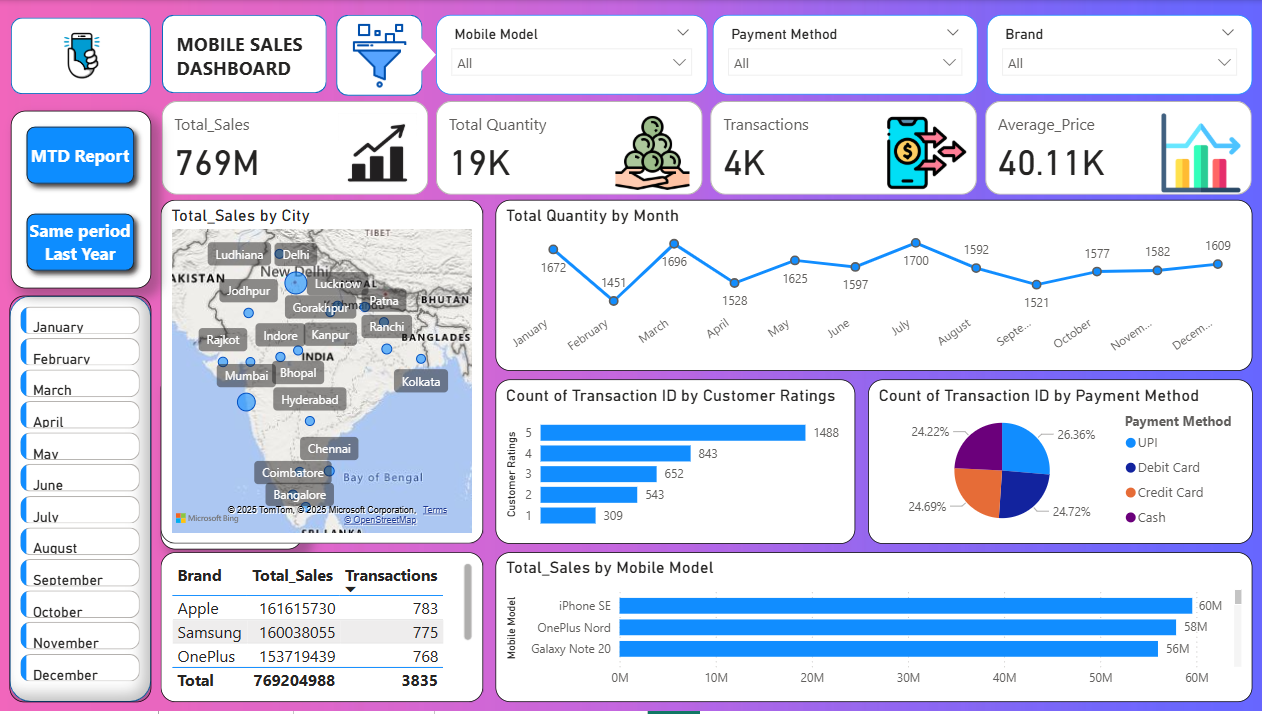

Layout of this report page (visuals, bound fields, positions):
{"tool":"powerbi","page":{"name":"Dashboard","canvas":[1280,720],"ordinal":0},"visuals":[{"type":"shape","box":[11.5,18.1,141.9,77.5],"z":0},{"type":"image","box":[27.3,20.5,110.8,71.1],"z":1000},{"type":"shape","box":[9.6,299.4,143.6,411.6],"z":2000},{"type":"advancedSlicerVisual","fields":{"Values":["Custom_Calendar.Date.Variation.Date Hierarchy.Month"]},"box":[9.6,299.4,143.6,411.6],"z":3000},{"type":"cardVisual","fields":{"Data":["Sales_Data.Total_Sales","Sales_Data.Total Quantity","Sales_Data.Transactions","Sales_Data.Average_Price"]},"box":[158.3,97.3,1116.7,105.6],"z":4000},{"type":"slicer","fields":{"Values":["Sales_Data.Mobile Model"]},"box":[441.6,15,274.8,80.7],"z":5000},{"type":"slicer","fields":{"Values":["Sales_Data.Payment Method"]},"box":[721.9,15,268,80.7],"z":6000},{"type":"slicer","fields":{"Values":["Sales_Data.Brand"]},"box":[999.6,14.8,268.9,80.8],"z":7000},{"type":"shape","box":[340.5,15,87.5,82],"z":8000},{"type":"image","box":[345.9,16.4,76.6,80.7],"z":9000},{"type":"shape","box":[406.1,35.6,35.6,39.7],"z":10000},{"type":"shape","box":[164.1,15,166.8,79.3],"z":11000},{"type":"textbox","box":[173.6,26,147.7,58.8],"z":12000},{"type":"pageNavigator","box":[163.3,379.4,143.5,178.1],"z":13000},{"type":"map","fields":{"Category":["Sales_Data.City"],"Size":["Sales_Data.Total_Sales"]},"box":[163.3,202.9,326.6,348],"z":14000},{"type":"tableEx","fields":{"Values":["Sales_Data.Brand","Sales_Data.Total_Sales","Sales_Data.Transactions"]},"box":[163.3,559.2,326.6,151.7],"z":15000},{"type":"lineChart","fields":{"Category":["Custom_Calendar.Date.Variation.Date Hierarchy.Month"],"Y":["Sales_Data.Total Quantity"]},"box":[501.4,202.9,767,173.2],"z":16000},{"type":"clusteredBarChart","fields":{"Category":["Sales_Data.Customer Ratings"],"Y":["CountNonNull(Sales_Data.Transaction ID)"]},"box":[501.4,384.3,364.5,166.6],"z":17000},{"type":"pieChart","fields":{"Category":["Sales_Data.Payment Method"],"Y":["CountNonNull(Sales_Data.Transaction ID)"]},"box":[879.2,384.3,389.3,166.6],"z":18000},{"type":"clusteredBarChart","fields":{"Category":["Sales_Data.Mobile Model"],"Y":["Sales_Data.Total_Sales"]},"box":[501.4,559.2,767,151.7],"z":19000},{"type":"pageNavigator","box":[11.5,112.2,141.9,179.8],"z":20000}]}

Visuals, with their boxes in screenshot pixels (x1, y1, x2, y2), scaled from the page's 1280x720 canvas onto the 1262x714 screenshot:
shape: {"x1": 11, "y1": 18, "x2": 151, "y2": 95}
image: {"x1": 27, "y1": 20, "x2": 136, "y2": 91}
shape: {"x1": 9, "y1": 297, "x2": 151, "y2": 705}
advancedSlicerVisual - Custom_Calendar.Date.Variation.Date Hierarchy.Month: {"x1": 9, "y1": 297, "x2": 151, "y2": 705}
cardVisual - Sales_Data.Total_Sales x Sales_Data.Total Quantity: {"x1": 156, "y1": 96, "x2": 1257, "y2": 201}
slicer - Sales_Data.Mobile Model: {"x1": 435, "y1": 15, "x2": 706, "y2": 95}
slicer - Sales_Data.Payment Method: {"x1": 712, "y1": 15, "x2": 976, "y2": 95}
slicer - Sales_Data.Brand: {"x1": 986, "y1": 15, "x2": 1251, "y2": 95}
shape: {"x1": 336, "y1": 15, "x2": 422, "y2": 96}
image: {"x1": 341, "y1": 16, "x2": 417, "y2": 96}
shape: {"x1": 400, "y1": 35, "x2": 435, "y2": 75}
shape: {"x1": 162, "y1": 15, "x2": 326, "y2": 94}
textbox: {"x1": 171, "y1": 26, "x2": 317, "y2": 84}
pageNavigator: {"x1": 161, "y1": 376, "x2": 302, "y2": 553}
map - Sales_Data.City x Sales_Data.Total_Sales: {"x1": 161, "y1": 201, "x2": 483, "y2": 546}
tableEx - Sales_Data.Brand x Sales_Data.Total_Sales: {"x1": 161, "y1": 555, "x2": 483, "y2": 705}
lineChart - Custom_Calendar.Date.Variation.Date Hierarchy.Month x Sales_Data.Total Quantity: {"x1": 494, "y1": 201, "x2": 1251, "y2": 373}
clusteredBarChart - Sales_Data.Customer Ratings x CountNonNull(Sales_Data.Transaction ID): {"x1": 494, "y1": 381, "x2": 854, "y2": 546}
pieChart - Sales_Data.Payment Method x CountNonNull(Sales_Data.Transaction ID): {"x1": 867, "y1": 381, "x2": 1251, "y2": 546}
clusteredBarChart - Sales_Data.Mobile Model x Sales_Data.Total_Sales: {"x1": 494, "y1": 555, "x2": 1251, "y2": 705}
pageNavigator: {"x1": 11, "y1": 111, "x2": 151, "y2": 290}
